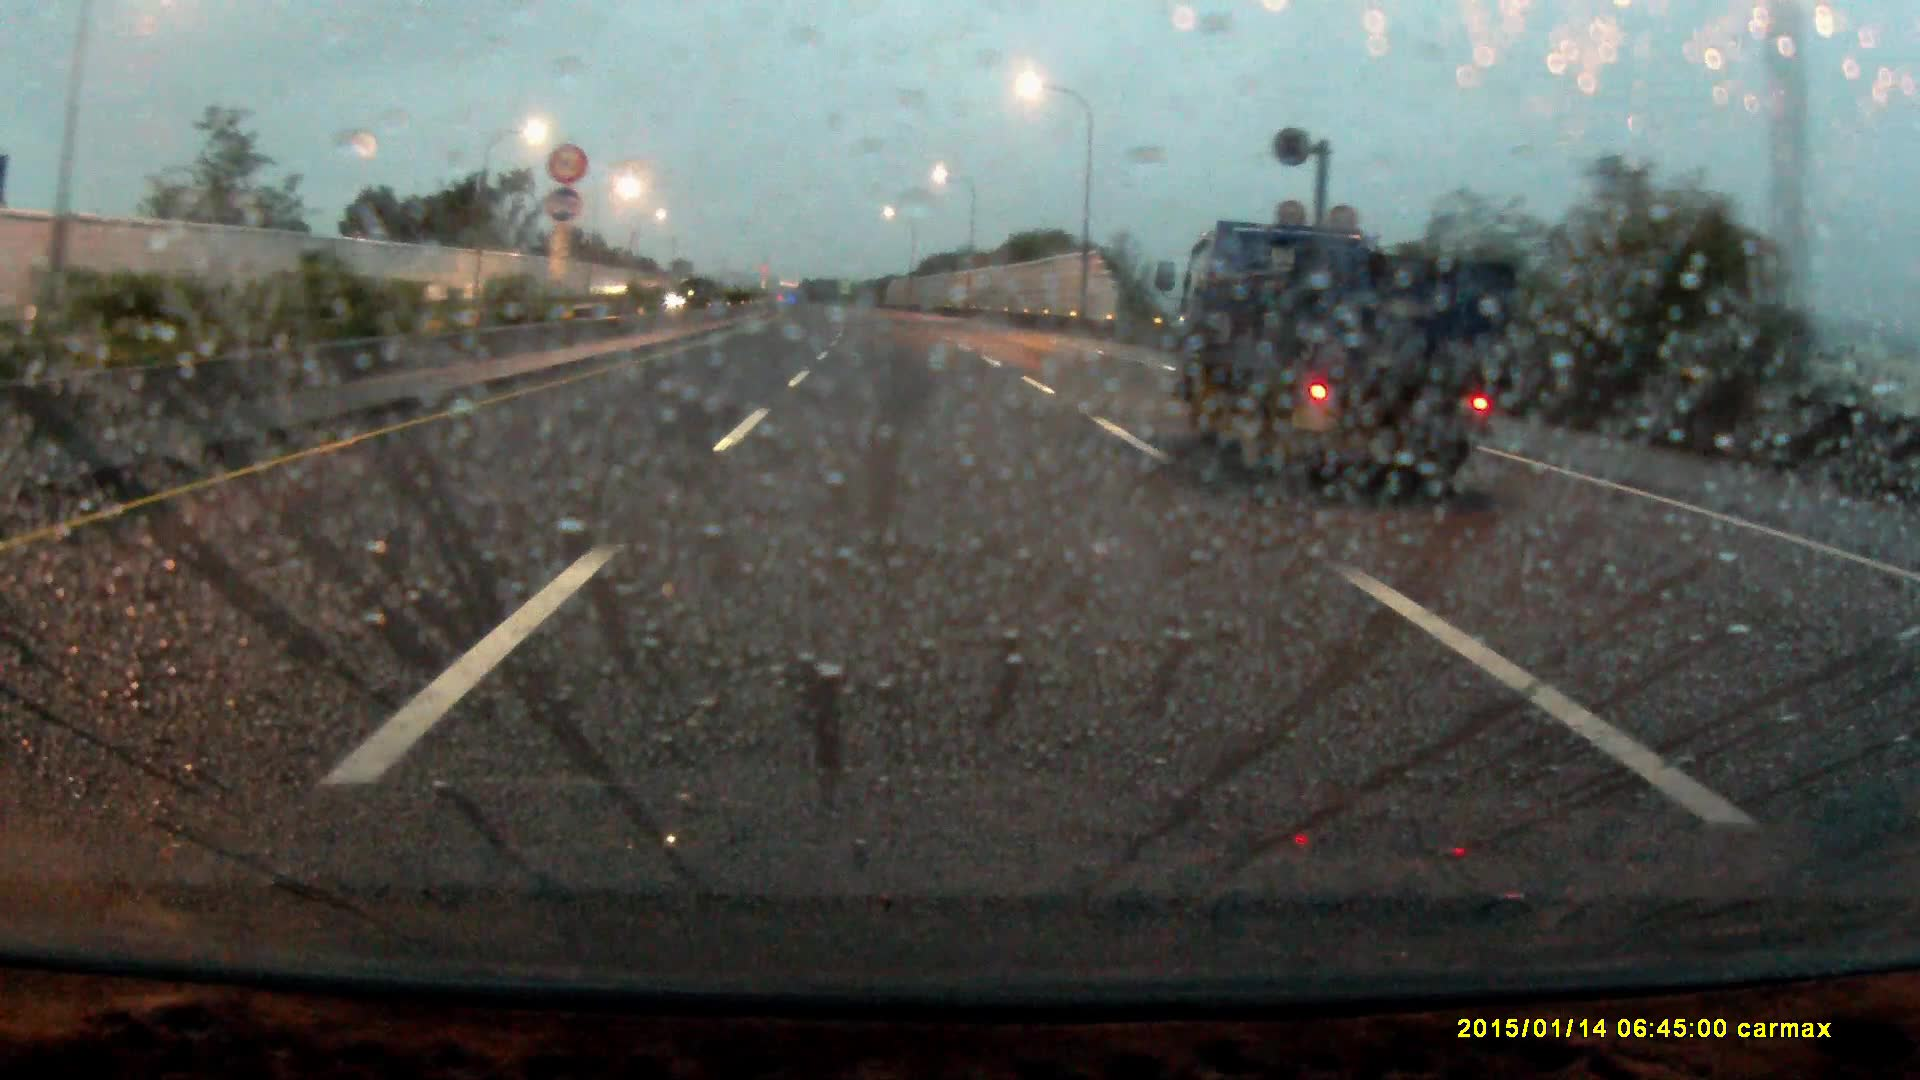vehicle: (1201, 204, 1527, 518)
